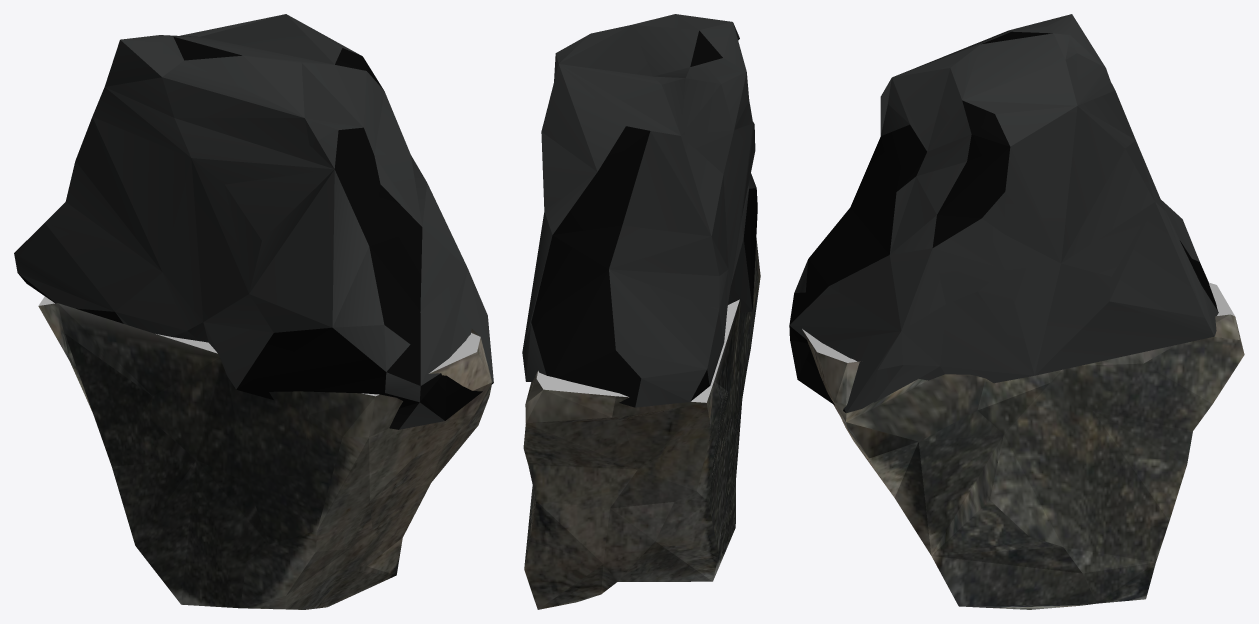
Rendered from rock2.gltf.
3 views of the same model, side by side, from view 1: azimuth 30°, elevation 25°; view 2: azimuth 150°, elevation 25°; view 3: azimuth 270°, elevation 25° (orthographic). The views are drawn at different scales.
Visible parts, largest first — view 1: lark_3; view 2: lark_3; view 3: lark_3.
Boxes of the visible parts, x1=… form: lark_3: x1=14, y1=14, x2=493, y2=609; lark_3: x1=522, y1=14, x2=760, y2=609; lark_3: x1=789, y1=14, x2=1244, y2=609.
Size of the model in its own units: 1.47 by 2.63 by 2.07.
5 materials, 4 textured.
